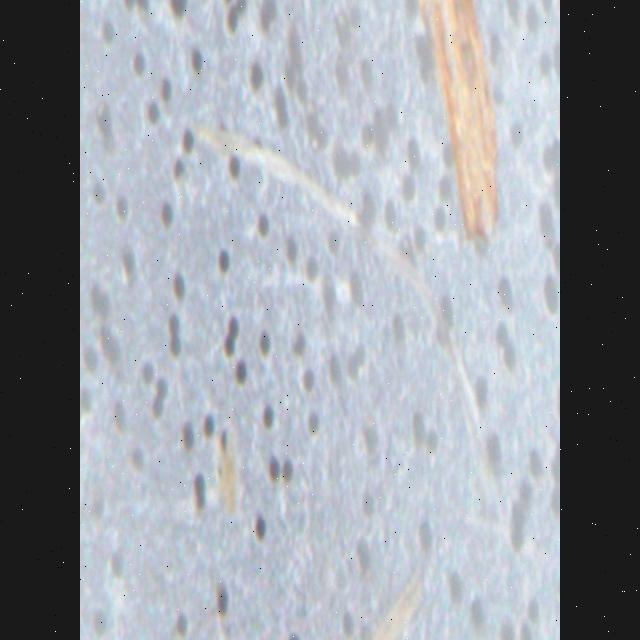Fibre: (177, 103, 509, 553), (414, 0, 504, 244)
